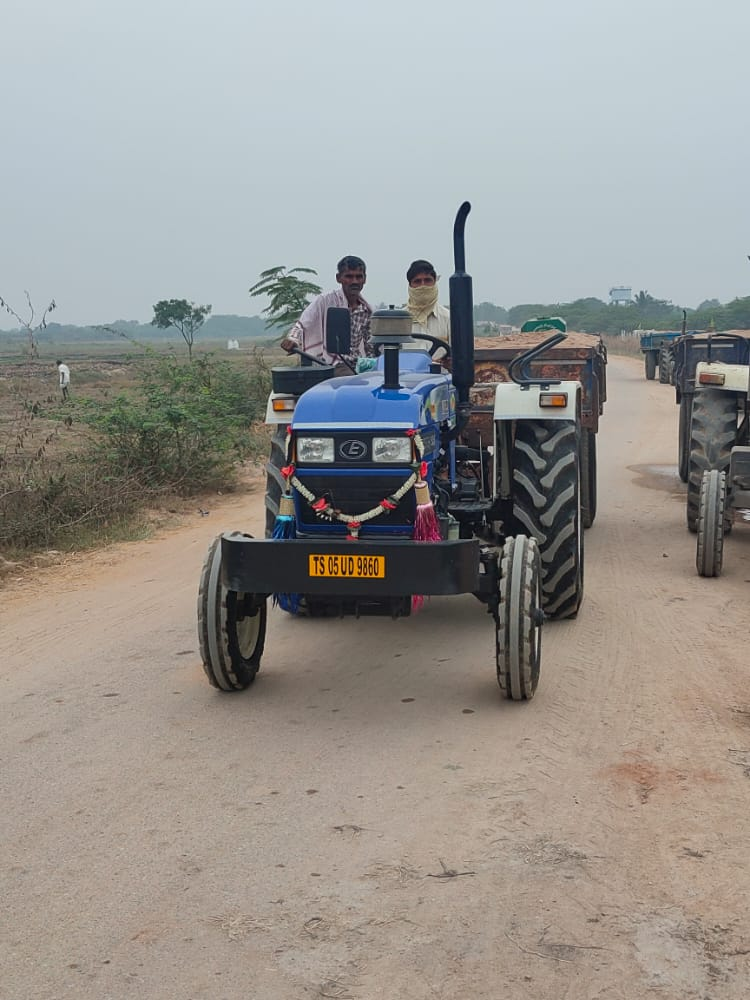num_plate: (304, 551, 389, 578)
